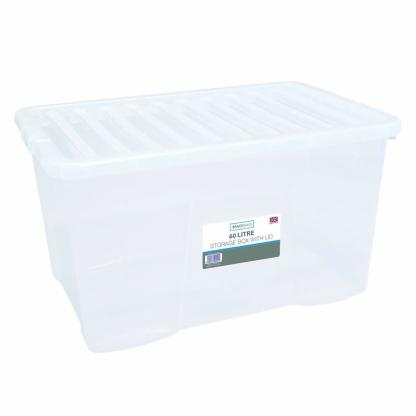plastic_box: (5, 65, 416, 365)
